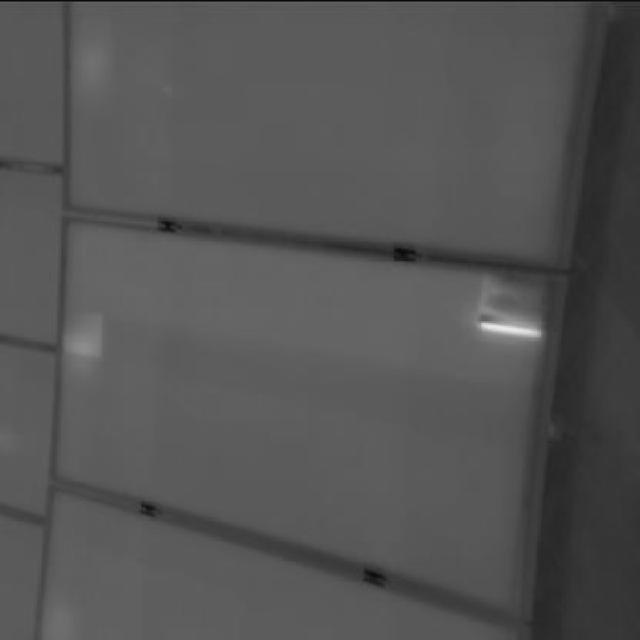hotspot: (470, 268, 562, 342)
